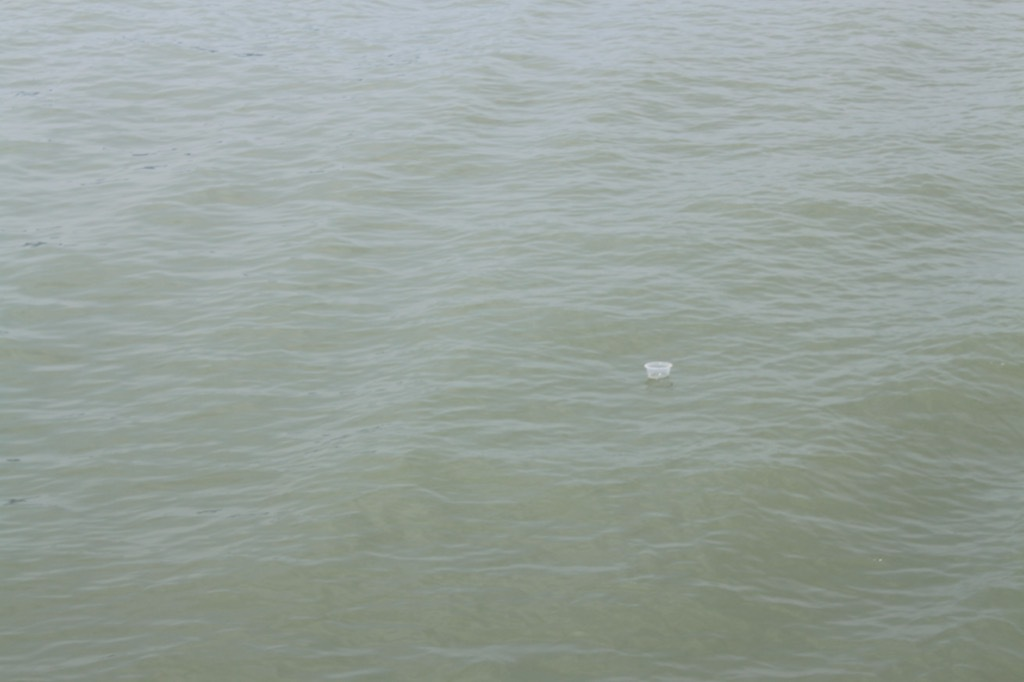plastic: (629, 340, 683, 398)
